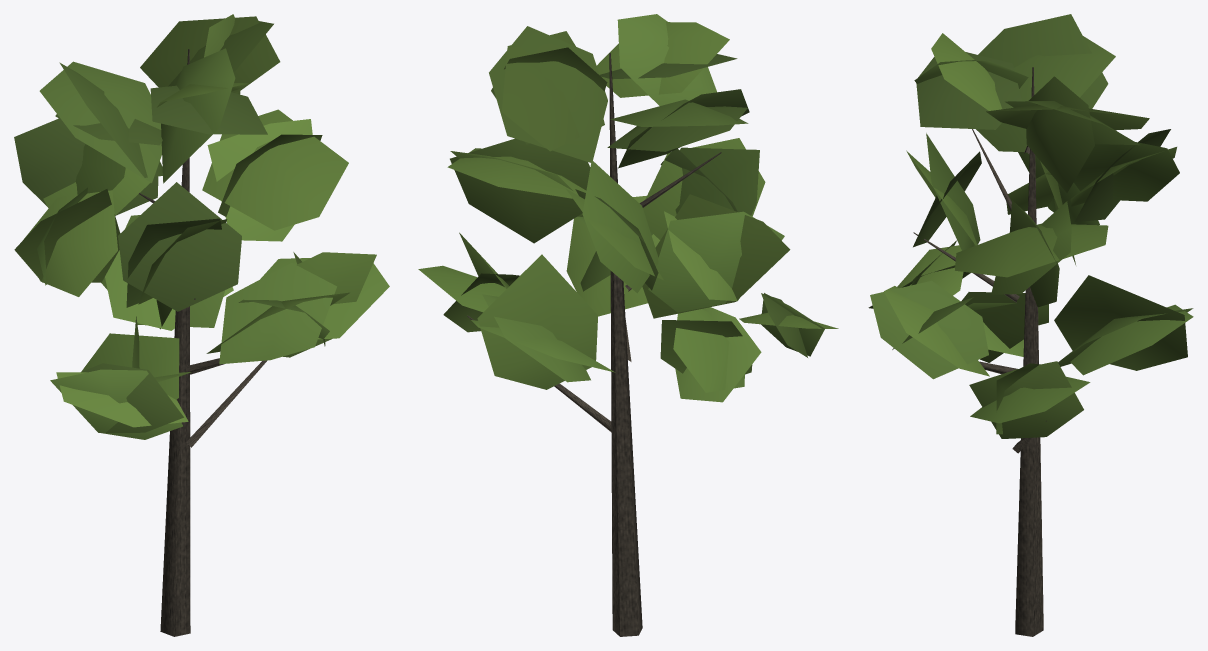
Rendered from broad_01_lod3.glb.
3 views of the same model, side by side, from view 1: azimuth 30°, elevation 25°; view 2: azimuth 150°, elevation 25°; view 3: azimuth 270°, elevation 25° (orthographic).
Visible parts, largest first — view 1: individual_curved_leaf_sprigs, retained_branches_0; view 2: individual_curved_leaf_sprigs, retained_branches_0; view 3: individual_curved_leaf_sprigs, retained_branches_0.
Part boxes in pixels (<box>): individual_curved_leaf_sprigs: <box>14,14,389,439</box>; retained_branches_0: <box>139,49,267,636</box>; individual_curved_leaf_sprigs: <box>418,14,838,402</box>; retained_branches_0: <box>467,53,721,636</box>; individual_curved_leaf_sprigs: <box>868,14,1193,438</box>; retained_branches_0: <box>913,67,1046,636</box>.
Size of the model in its own units: 6.6 by 10.24 by 5.17.
Materials: 2 (1 with a texture image).
